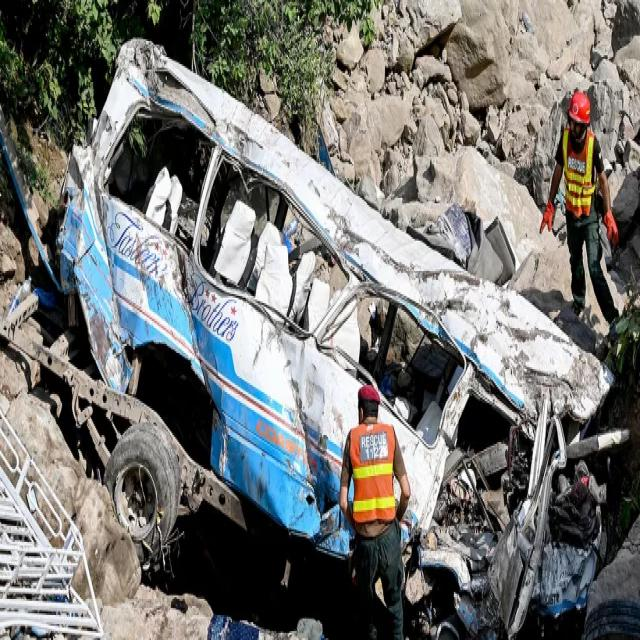Accident: (4, 35, 615, 640)
